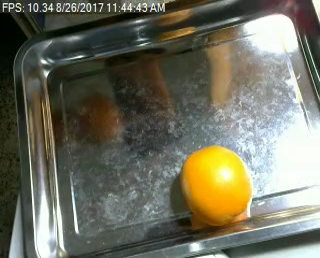Orange: (180, 144, 251, 225)
